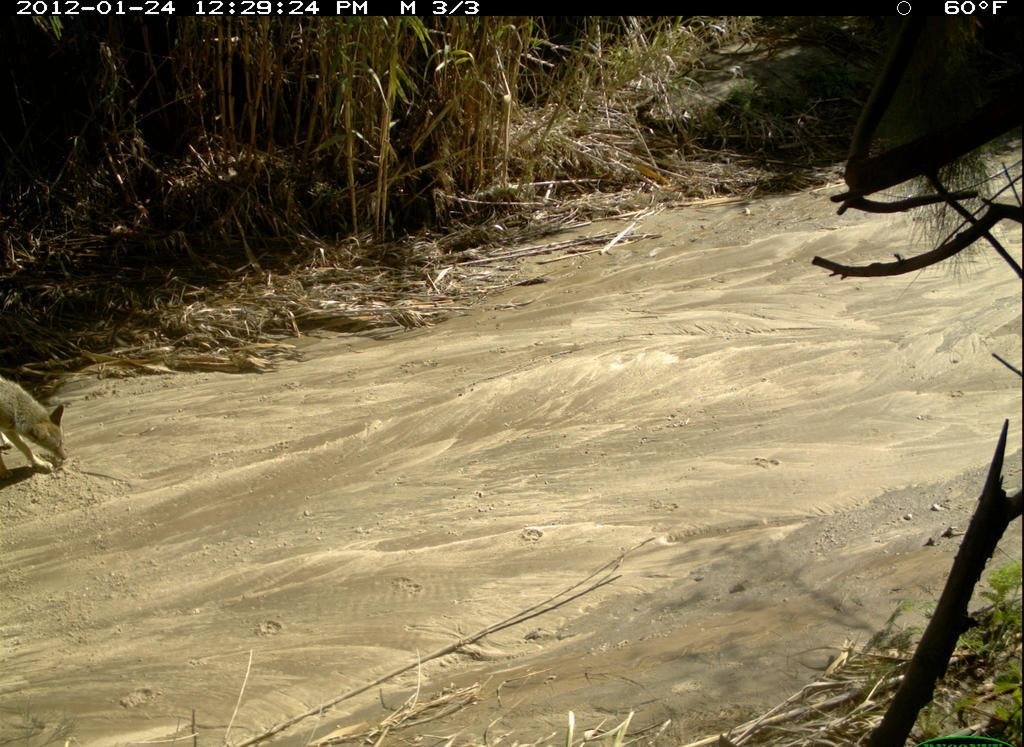coyote: (2, 364, 76, 493)
